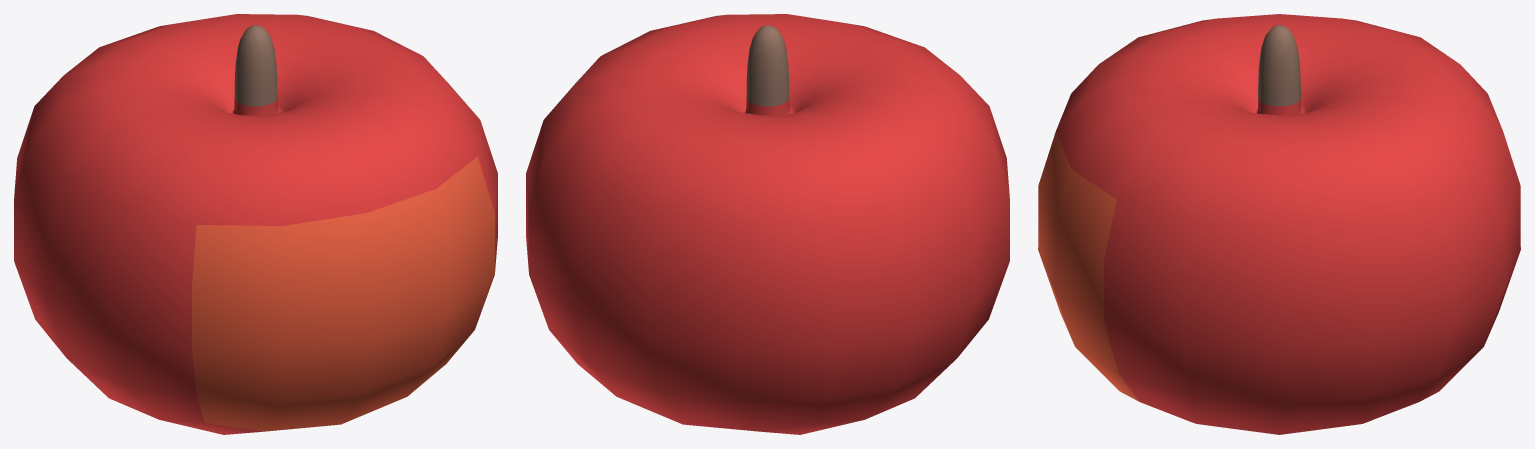
File: apple0.fbx
3 renders of one model, left to right at view 1: azimuth 30°, elevation 25°; view 2: azimuth 150°, elevation 25°; view 3: azimuth 270°, elevation 25°, orthographic.
Visible parts, largest first — view 1: apple; view 2: apple; view 3: apple.
Boxes of the visible parts, <box> form: apple: <box>14,14,497,434</box>; apple: <box>526,14,1009,434</box>; apple: <box>1038,14,1520,434</box>.
Bounding box in the file's own units: 41.9 × 36.37 × 41.9.
